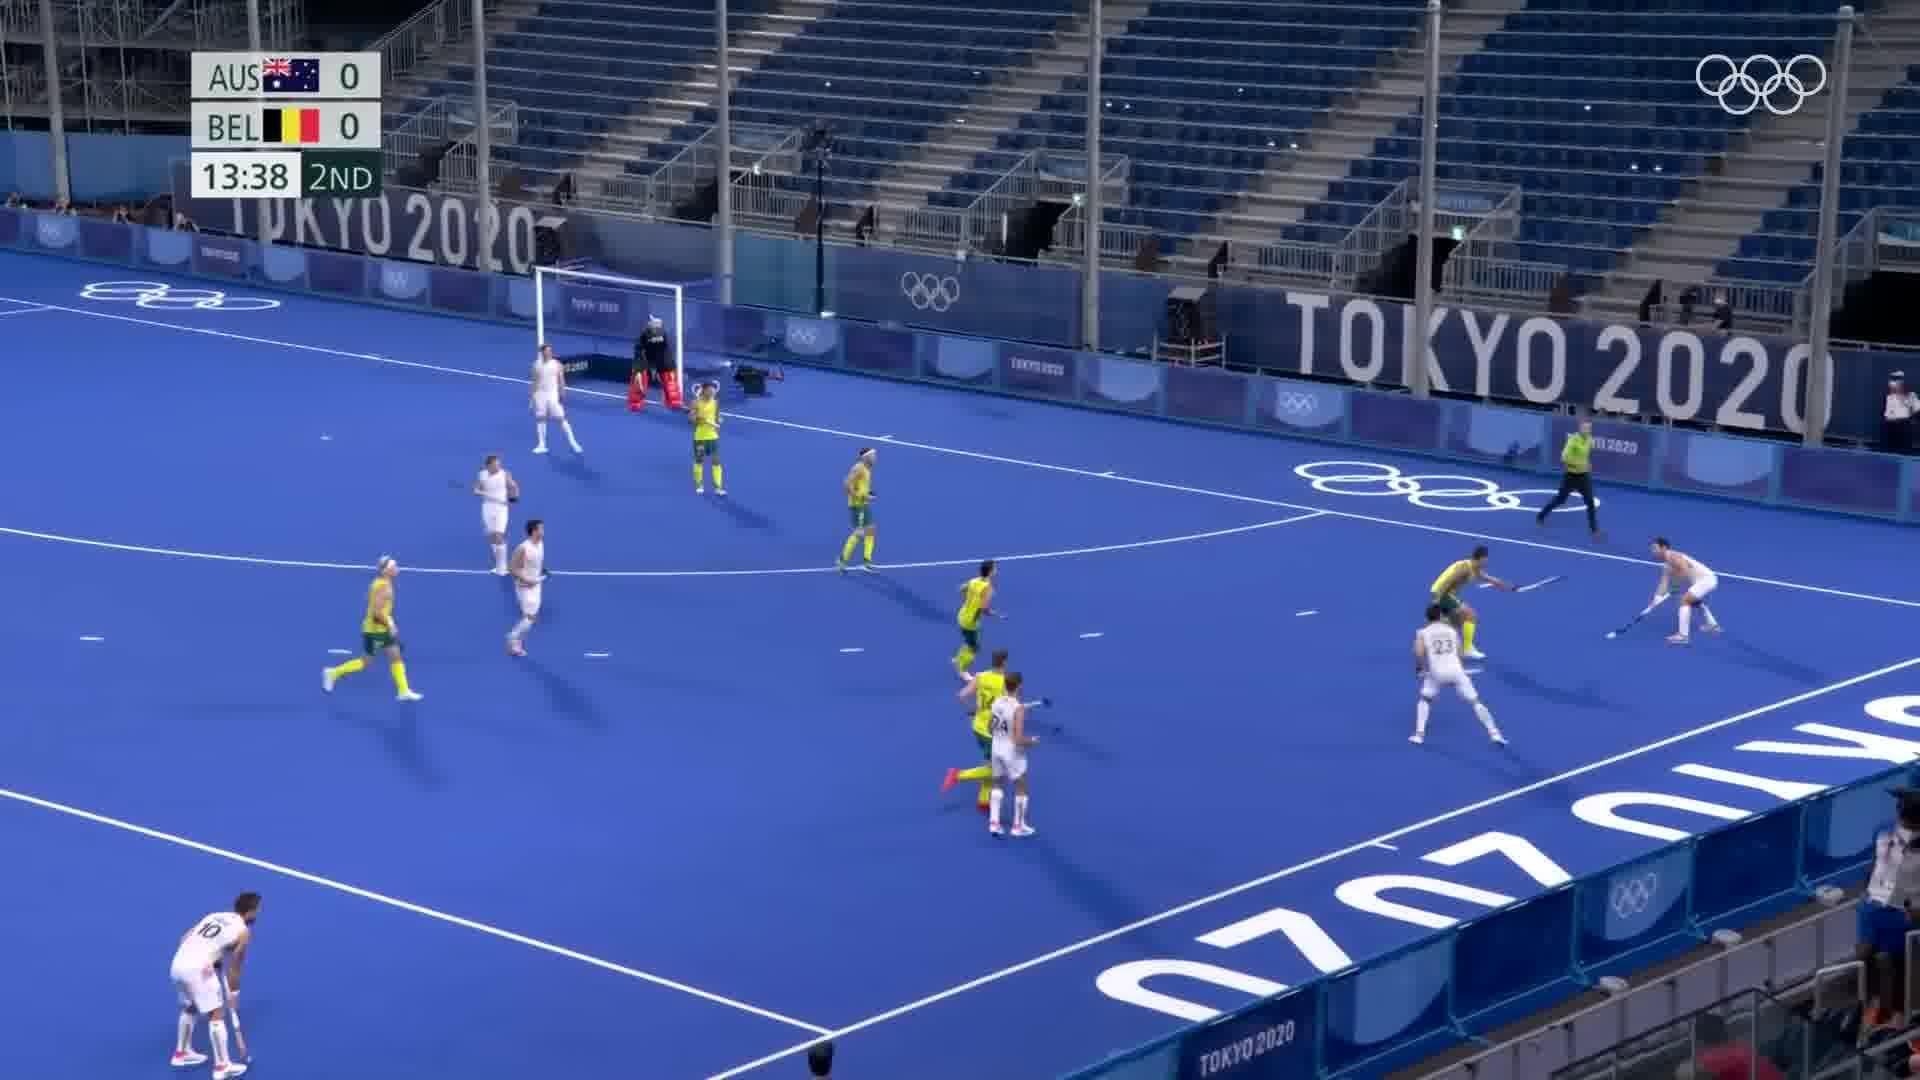ball: (1601, 622, 1619, 646)
